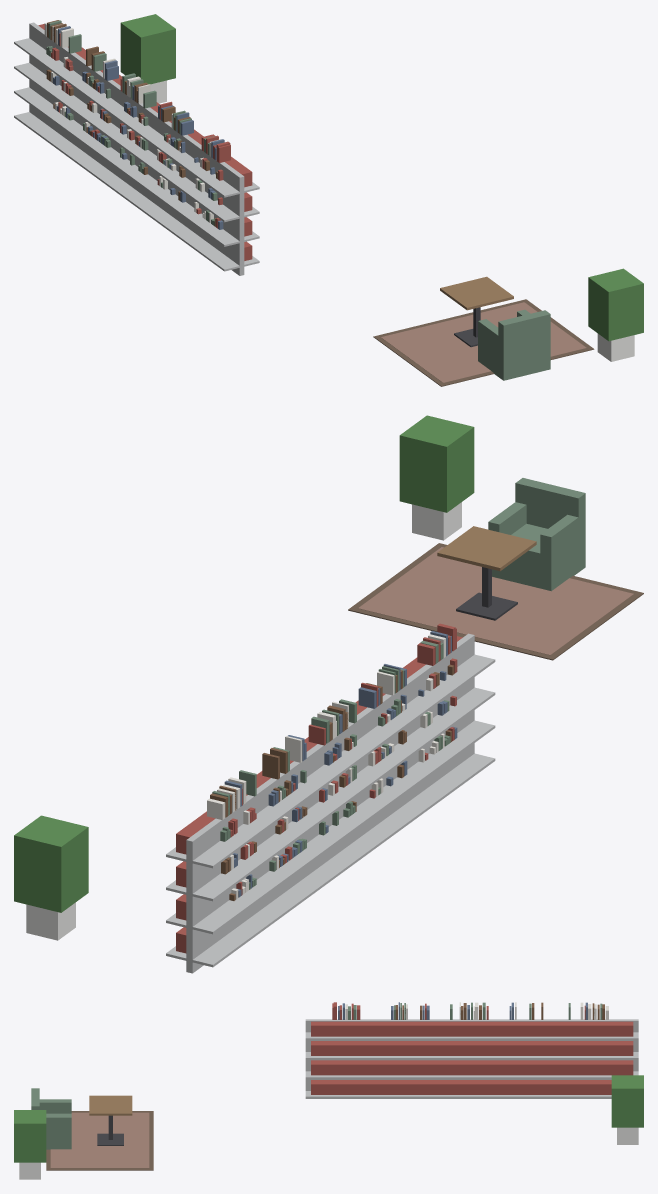
The model's file is fine-s2.glb.
3 renders of one model, top to bottom at view 1: azimuth 30°, elevation 25°; view 2: azimuth 150°, elevation 25°; view 3: azimuth 270°, elevation 25°, orthographic. The views are drawn at different scales.
Parts seen in each view (by area): view 1: soft-s2, shelving.009, shelving.005, shelving.006, plant-medium.002, sofa.001, shelving.007, shelving.008, plant-medium.003, coffee-table.001; view 2: soft-s2, shelving.005, shelving.009, shelving.007, shelving.006, plant-medium.002, plant-medium.003, sofa.001, shelving.008, coffee-table.001; view 3: soft-s2, shelving.005, shelving.009, shelving.007, shelving.006, shelving.008, plant-medium.002, plant-medium.003, sofa.001, coffee-table.001.
Part boxes in pixels (<box>): soft-s2: <box>44,20,594,386</box>; shelving.009: <box>163,132,259,275</box>; shelving.005: <box>14,22,91,161</box>; shelving.006: <box>51,50,127,187</box>; plant-medium.002: <box>588,268,643,361</box>; sofa.001: <box>478,309,550,380</box>; shelving.007: <box>88,79,169,216</box>; shelving.008: <box>126,106,202,237</box>; plant-medium.003: <box>120,14,175,103</box>; coffee-table.001: <box>440,276,513,347</box>; soft-s2: <box>207,543,643,900</box>; shelving.005: <box>166,780,294,973</box>; shelving.009: <box>393,633,495,820</box>; shelving.007: <box>290,707,394,892</box>; shelving.006: <box>242,744,344,930</box>; plant-medium.002: <box>399,415,474,540</box>; plant-medium.003: <box>14,815,88,940</box>; sofa.001: <box>488,478,585,591</box>; shelving.008: <box>344,671,445,854</box>; coffee-table.001: <box>437,526,536,620</box>; soft-s2: <box>46,1002,608,1170</box>; shelving.005: <box>542,1019,638,1098</box>; shelving.009: <box>305,1019,402,1098</box>; shelving.007: <box>423,1019,520,1098</box>; shelving.006: <box>483,1019,579,1098</box>; shelving.008: <box>364,1019,461,1098</box>; plant-medium.002: <box>14,1110,46,1179</box>; plant-medium.003: <box>611,1075,643,1144</box>; sofa.001: <box>31,1088,71,1149</box>; coffee-table.001: <box>89,1095,132,1145</box>.
Size of the model in its own units: 4 by 1.92 by 11.73.
